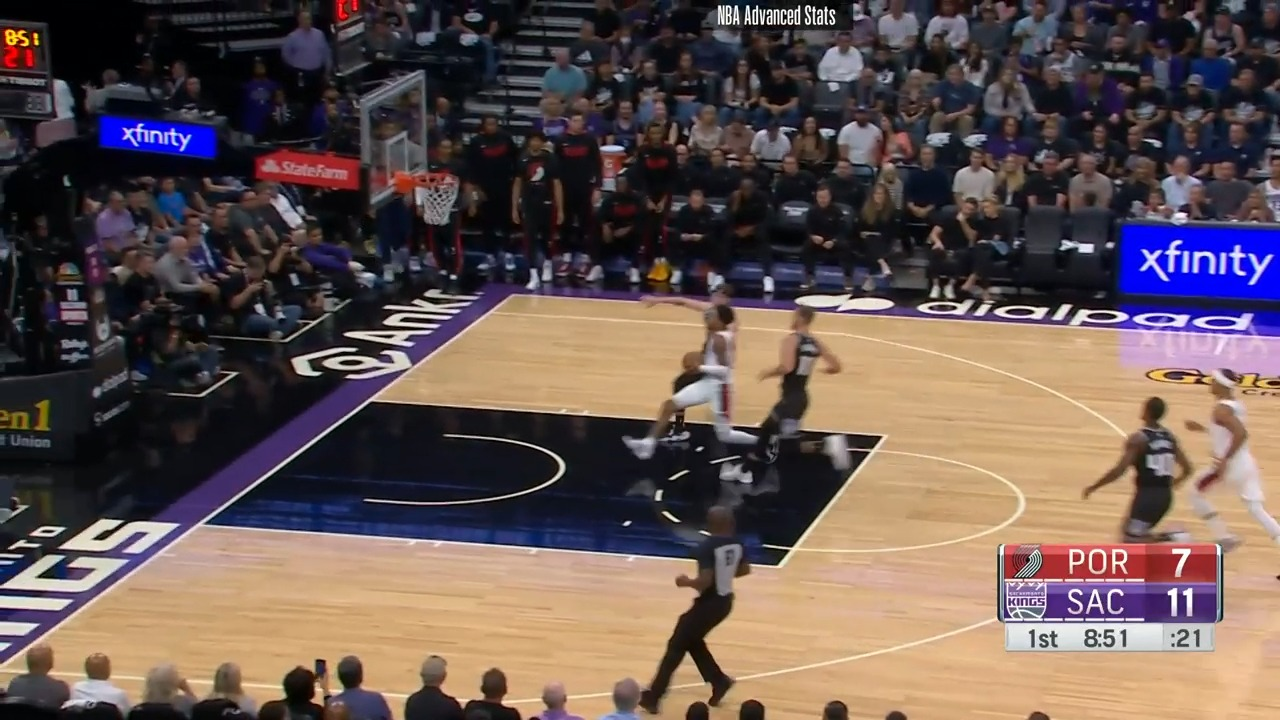net: (388, 163, 467, 231)
player: (723, 300, 849, 493), (1171, 367, 1280, 585), (626, 293, 749, 478), (1079, 393, 1191, 548)
referee: (640, 503, 753, 714)
